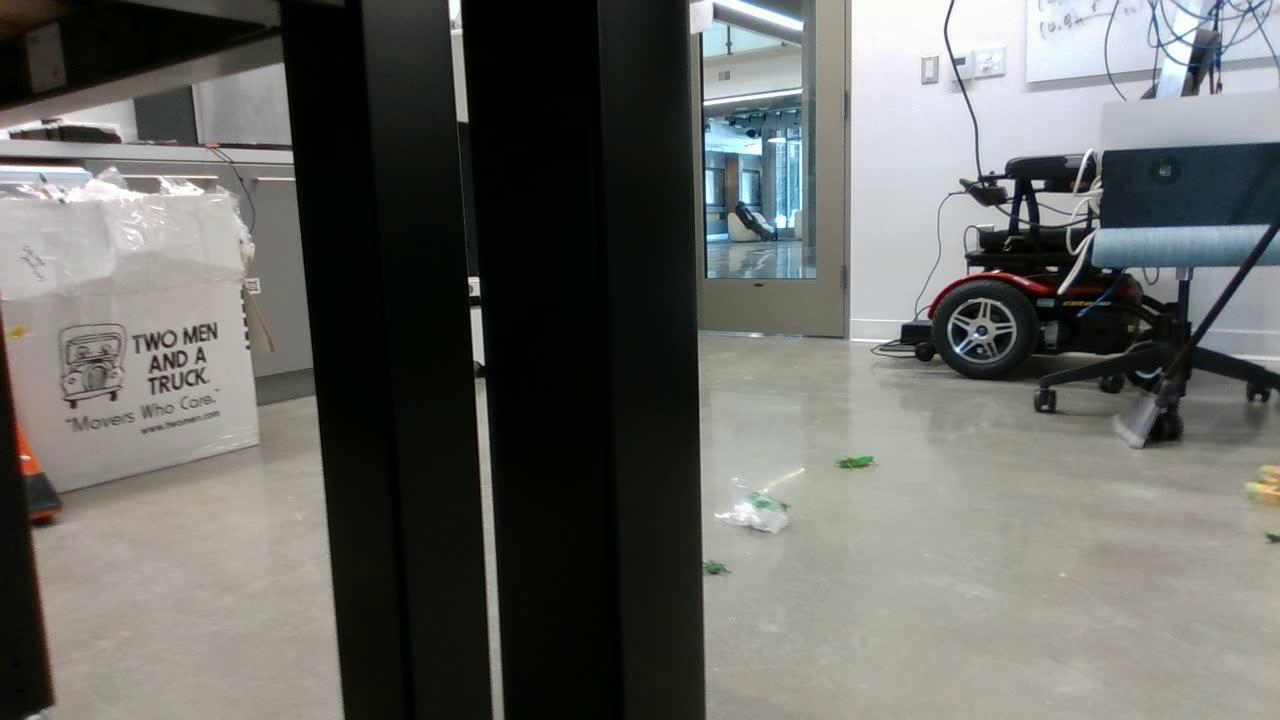grasshopper: (746, 494, 795, 515), (833, 453, 875, 470)
